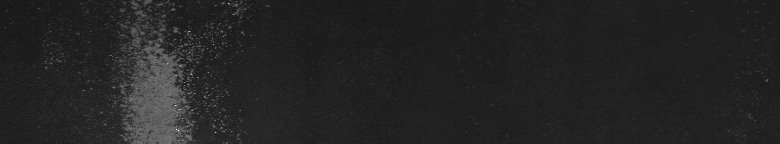kb: (116, 4, 188, 136)
